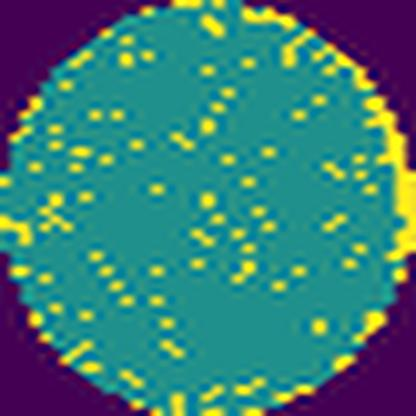Edge-Loc: (238, 0, 386, 85), (360, 90, 415, 258)
